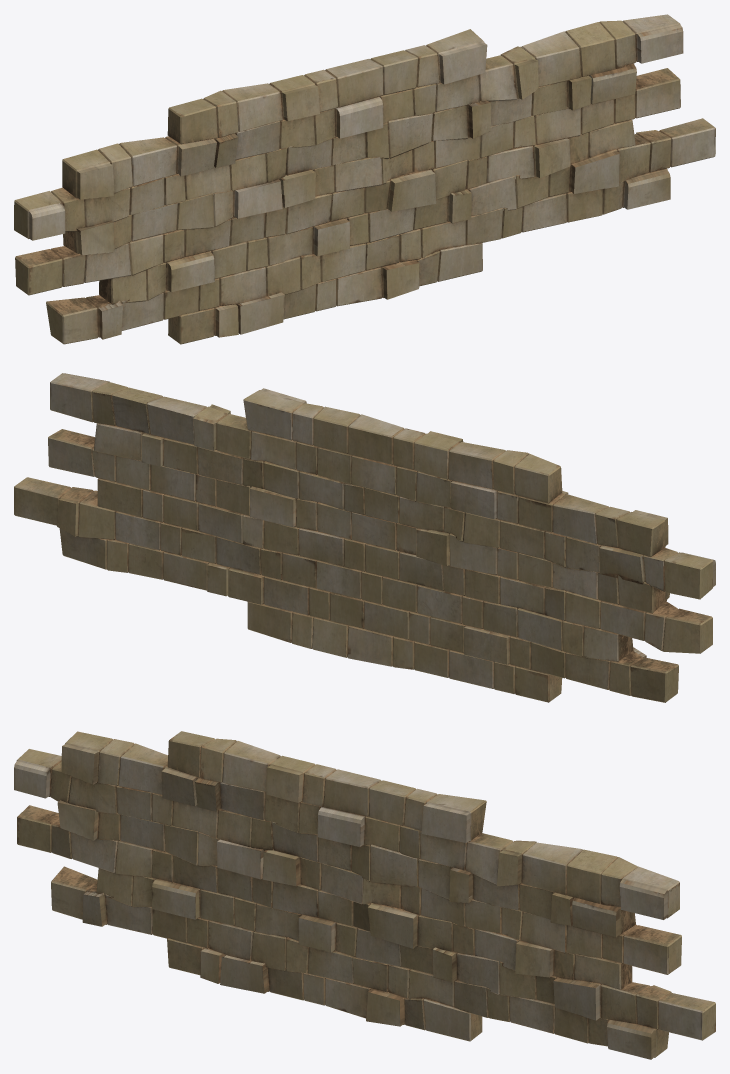
Rendered from roman_wall_ruin_ver_2.fbx.
3 views of the same model, one above another, from view 1: azimuth 30°, elevation 25°; view 2: azimuth 150°, elevation 25°; view 3: azimuth 330°, elevation 25° (orthographic).
Visible parts, largest first — view 1: Plane.002; view 2: Plane.002; view 3: Plane.002.
Part boxes in pixels (x1,y1,x2,y2): Plane.002: (14,14,715,344); Plane.002: (14,373,715,702); Plane.002: (14,731,715,1059).
Size of the model in its own units: 6185 by 2012 by 389.
